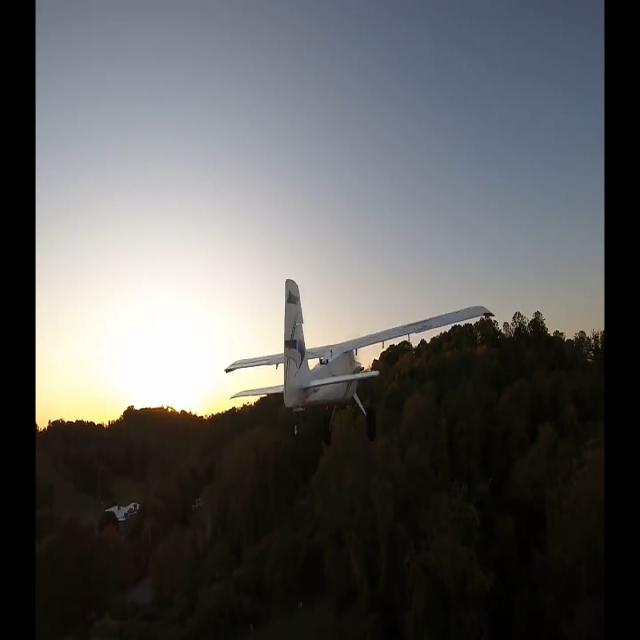iha: (223, 273, 495, 450)
